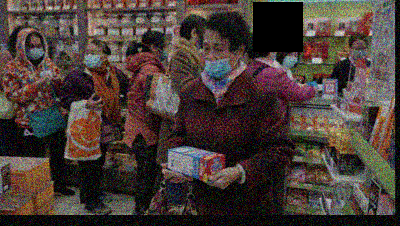mask_weared_incorrect: (201, 40, 233, 78)
with_mask: (82, 49, 102, 70), (22, 42, 43, 60), (281, 51, 297, 69), (351, 43, 367, 60), (154, 42, 166, 61)
